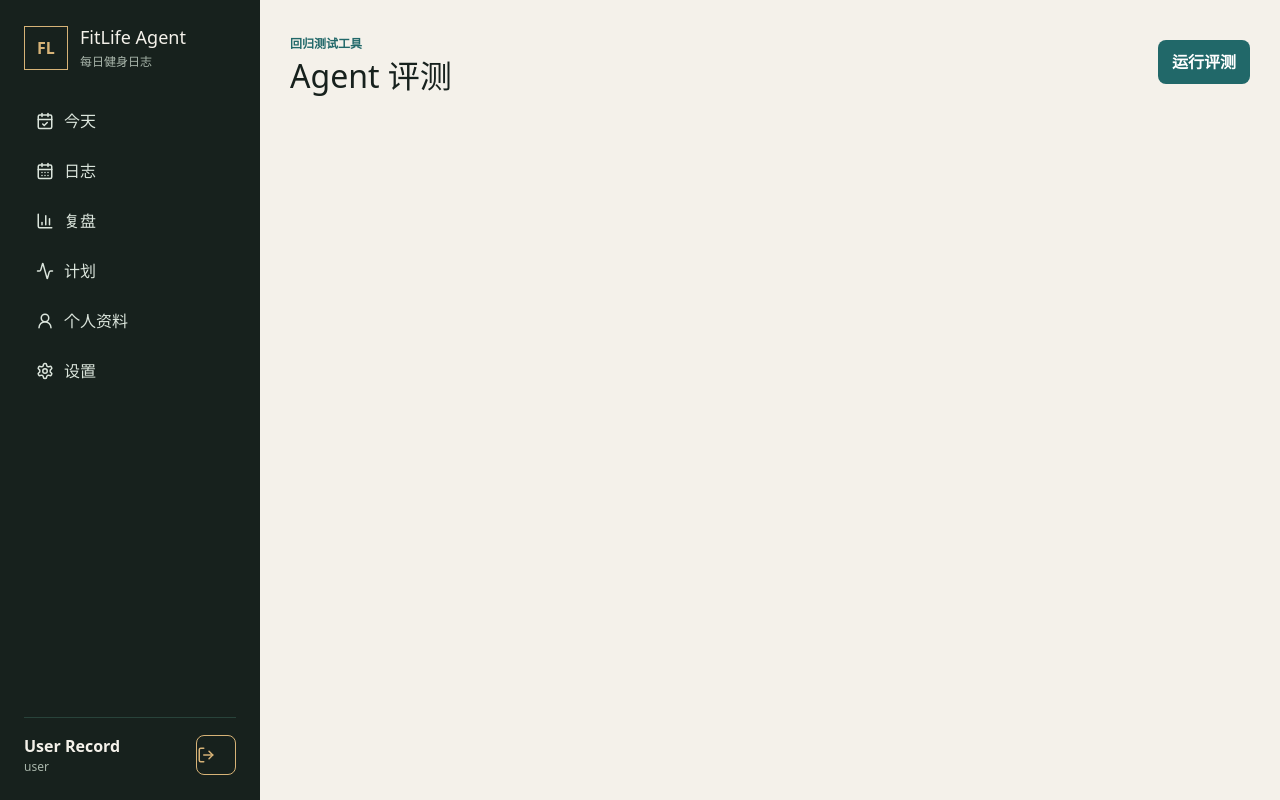
it: renders actual evaluation results in zh-CN
Click the button "运行评测" at (1204, 62), box [1158,40,1250,84]
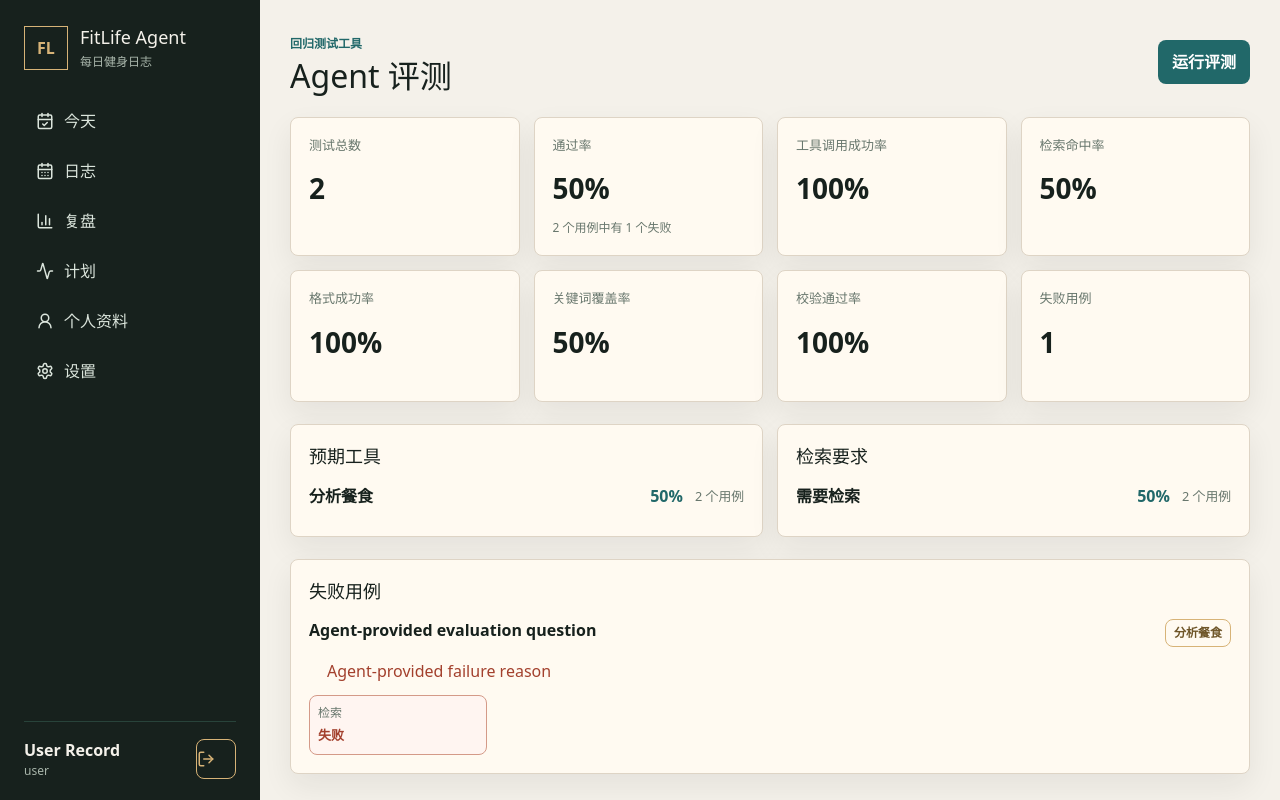
Expected: the text "2 个用例中有 1 个失败" is shown, [552,219,672,236]
Expected: the heading "预期工具" is shown, [309,444,381,468]
Expected: the text "分析餐食" below "预期工具" is shown, [309,485,373,507]
